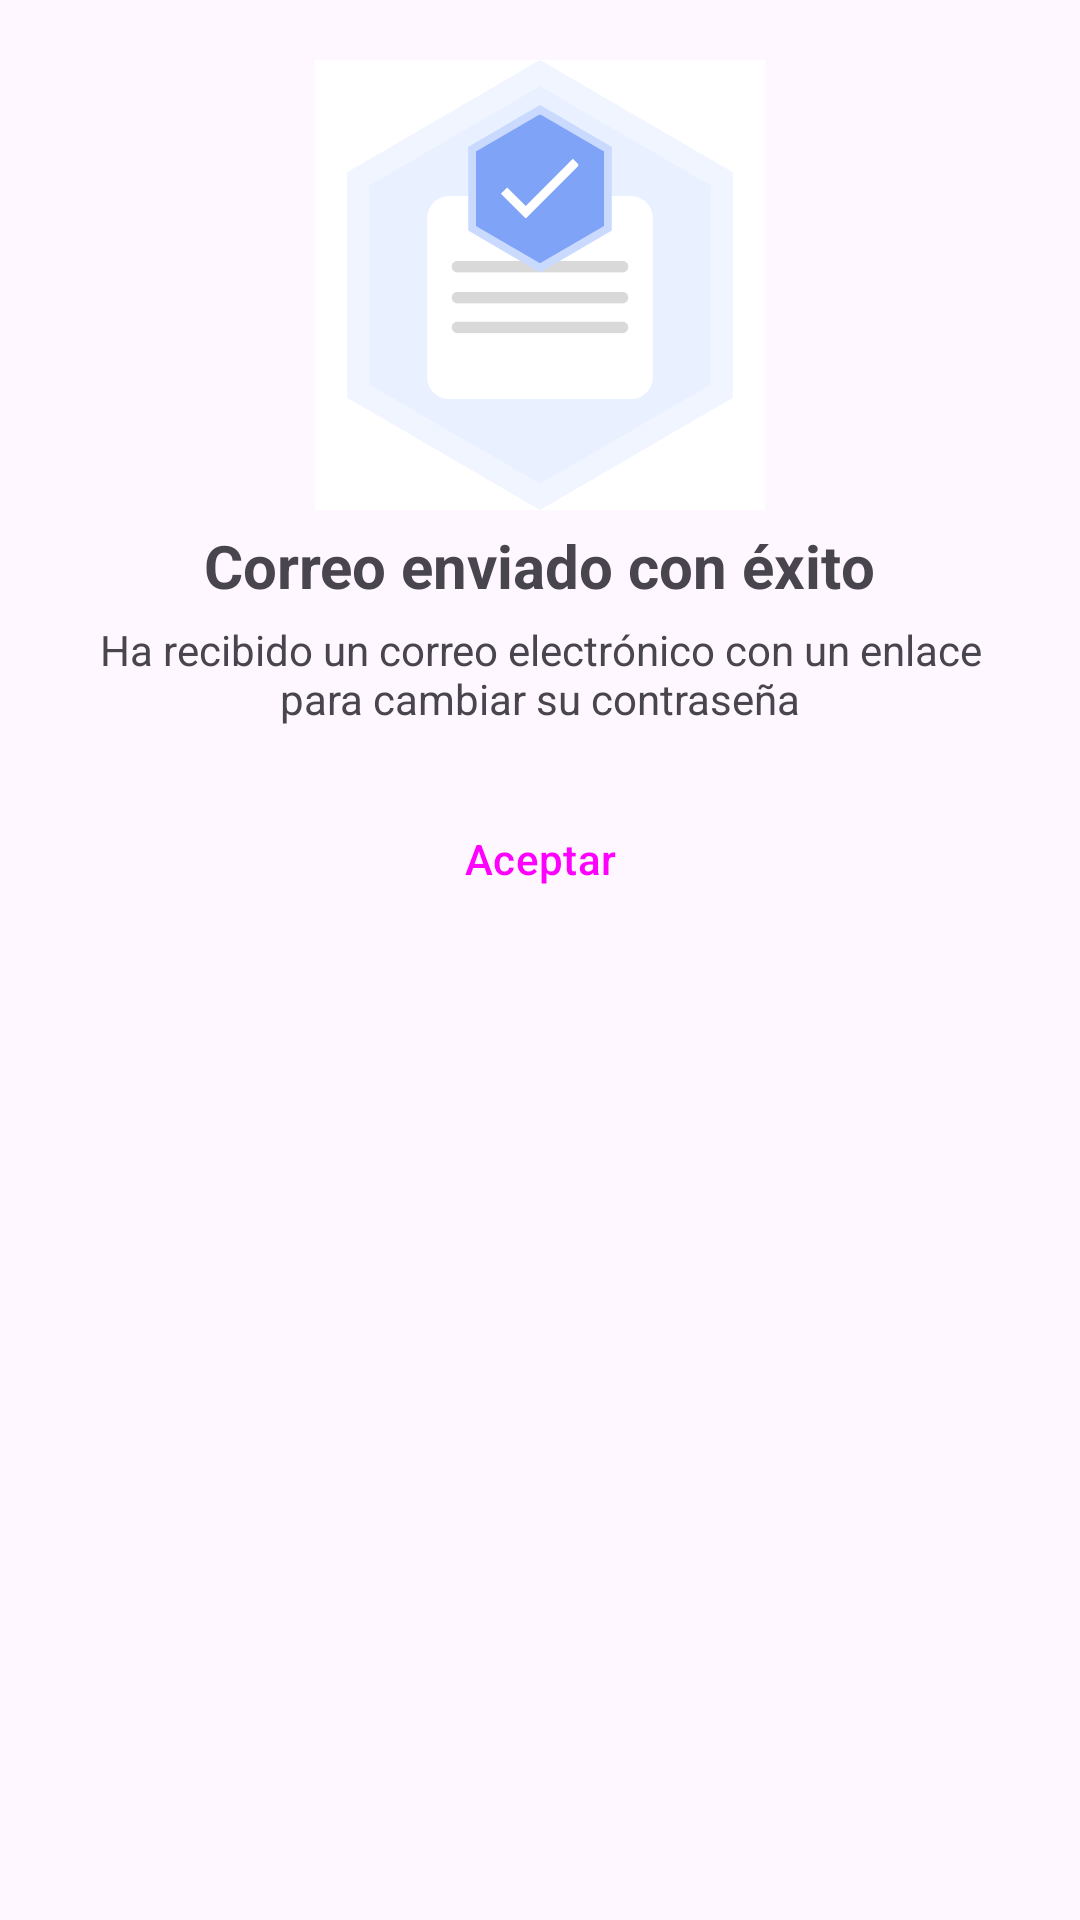

Icon click points for this 1080w x 1920h phone screenshot, format point (x, y):
password changed: point (540, 219)
